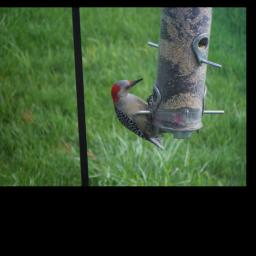Woodpecker: (110, 77, 168, 151)
